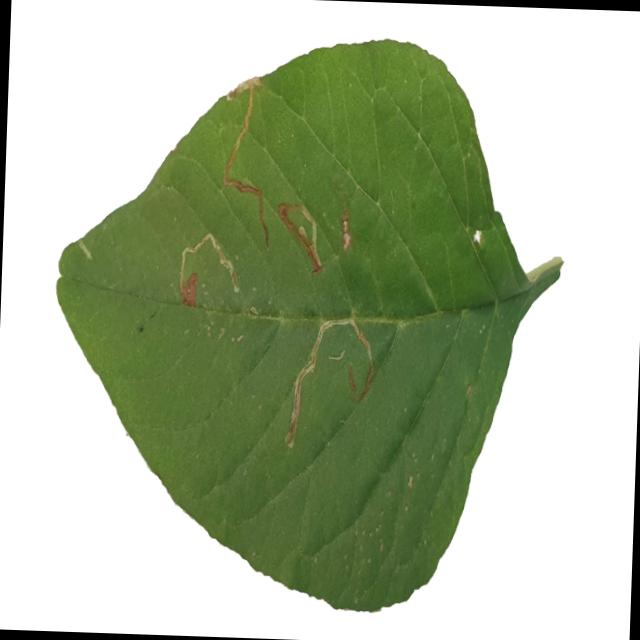Medicinal-Arive Dantu: (43, 22, 572, 624)
